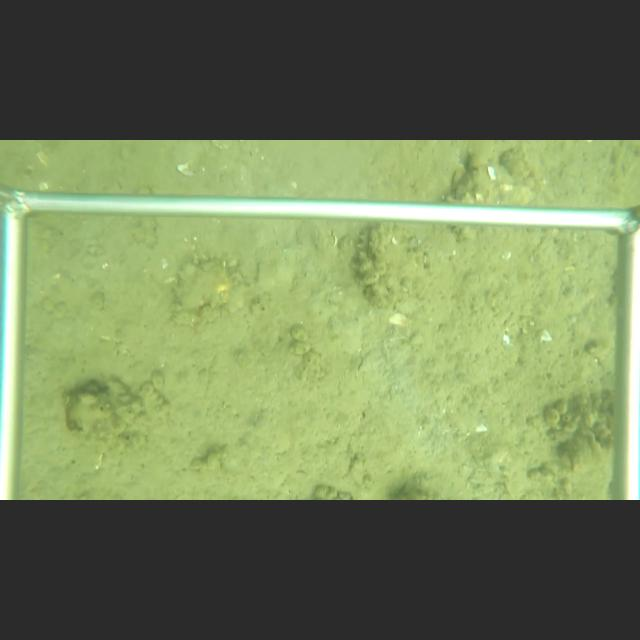Oyster-Closed: (354, 221, 398, 309), (169, 254, 233, 309)
